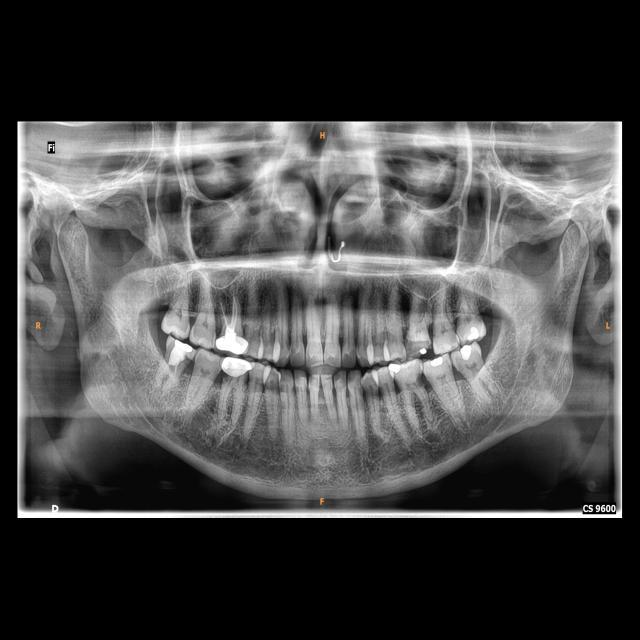dolgu: (167, 338, 194, 369)
kanal-tedavisi: (217, 294, 240, 328), (222, 354, 254, 378)
kaplama: (214, 330, 249, 354)
